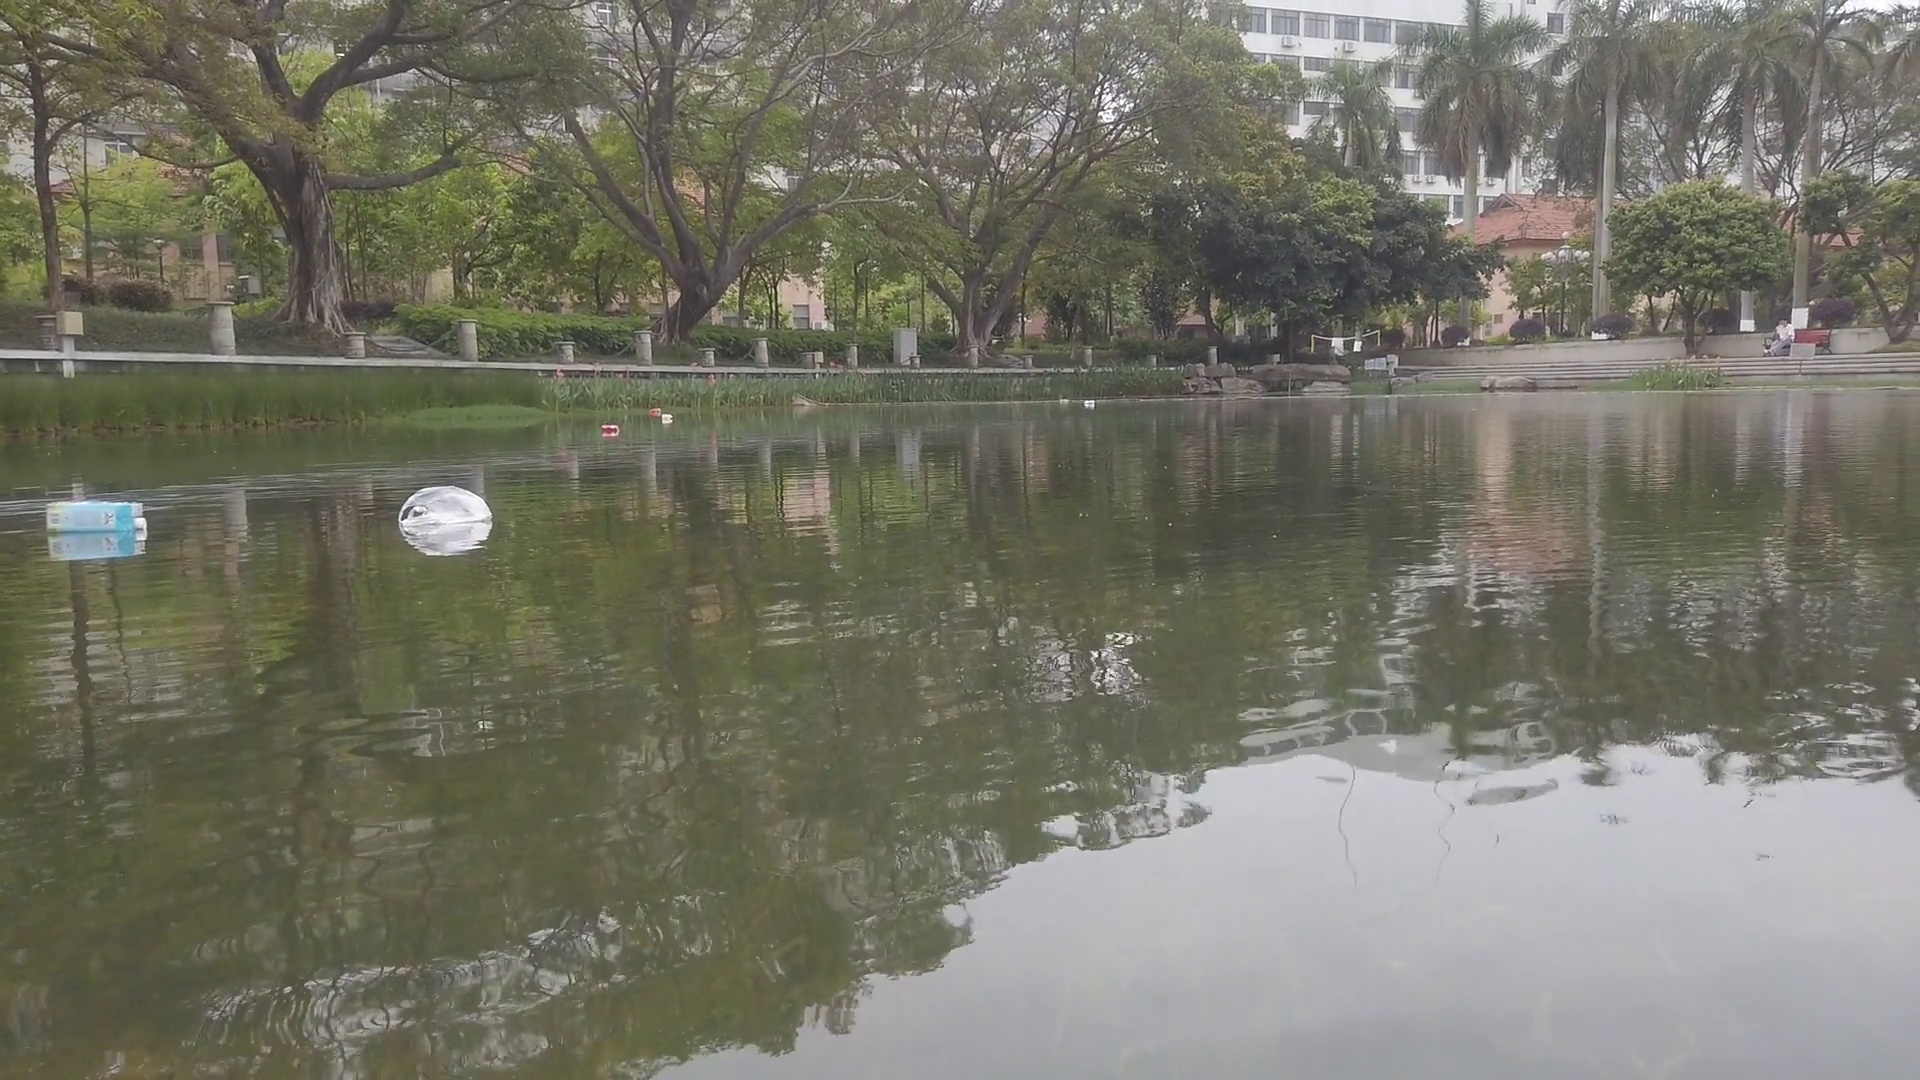bottle: (603, 425, 618, 436), (663, 411, 676, 422), (1060, 397, 1069, 405), (651, 407, 659, 415), (1085, 400, 1092, 407)
carton: (47, 500, 148, 531)
plastic: (402, 484, 495, 525)
